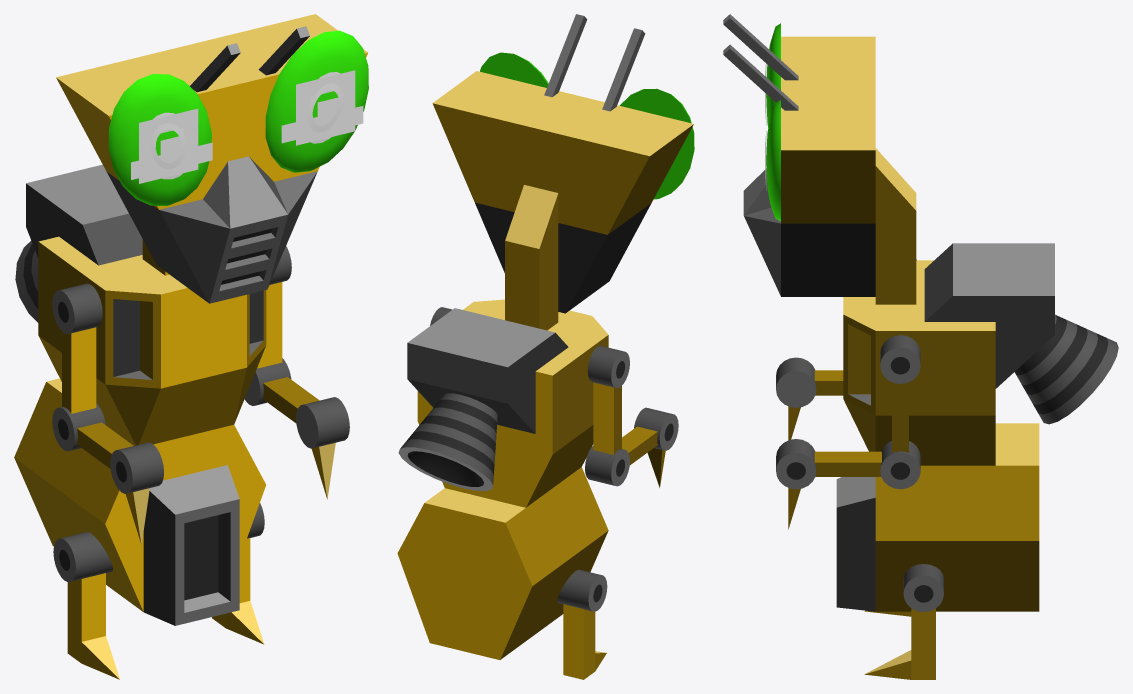
3 views of the same model, side by side, from view 1: azimuth 30°, elevation 25°; view 2: azimuth 150°, elevation 25°; view 3: azimuth 270°, elevation 25° (orthographic). The views are drawn at different scales.
Parts seen in each view (by area): view 1: Ch_207_Head, Ch_207_Chest, Ch_207, Ch_207_Arm_L, Ch_207_Arm_R, Ch_207_Leg_L, Ch_207_Eye_02, Ch_207_Eye_03_R, Ch_207_Eye_03_L, Ch_207_Leg_R, Ch_207_Eye_01; view 2: Ch_207_Head, Ch_207_Chest, Ch_207, Ch_207_Arm_L, Ch_207_Leg_L; view 3: Ch_207_Chest, Ch_207_Head, Ch_207, Ch_207_Arm_R, Ch_207_Leg_R, Ch_207_Arm_L.
Part boxes in pixels (left/top/right/bottom): Ch_207_Head: left=56, top=14, right=368, bottom=303; Ch_207_Chest: left=15, top=164, right=266, bottom=445; Ch_207: left=14, top=378, right=265, bottom=625; Ch_207_Arm_L: left=52, top=283, right=163, bottom=544; Ch_207_Arm_R: left=244, top=246, right=349, bottom=499; Ch_207_Leg_L: left=53, top=532, right=119, bottom=679; Ch_207_Eye_02: left=131, top=106, right=363, bottom=179; Ch_207_Eye_03_R: left=296, top=70, right=355, bottom=145; Ch_207_Eye_03_L: left=139, top=108, right=198, bottom=183; Ch_207_Leg_R: left=212, top=503, right=264, bottom=644; Ch_207_Eye_01: left=150, top=72, right=343, bottom=179; Ch_207_Head: left=432, top=14, right=694, bottom=330; Ch_207_Chest: left=398, top=299, right=608, bottom=507; Ch_207: left=397, top=467, right=608, bottom=659; Ch_207_Arm_L: left=585, top=345, right=678, bottom=487; Ch_207_Leg_L: left=557, top=569, right=607, bottom=679; Ch_207_Chest: left=843, top=243, right=1118, bottom=465; Ch_207_Head: left=723, top=14, right=916, bottom=304; Ch_207: left=836, top=423, right=1039, bottom=611; Ch_207_Arm_R: left=776, top=335, right=920, bottom=529; Ch_207_Leg_R: left=864, top=564, right=943, bottom=679; Ch_207_Arm_L: left=776, top=259, right=916, bottom=440.
Bounding box in the file's own units: 4.43 × 11.09 × 6.5.
